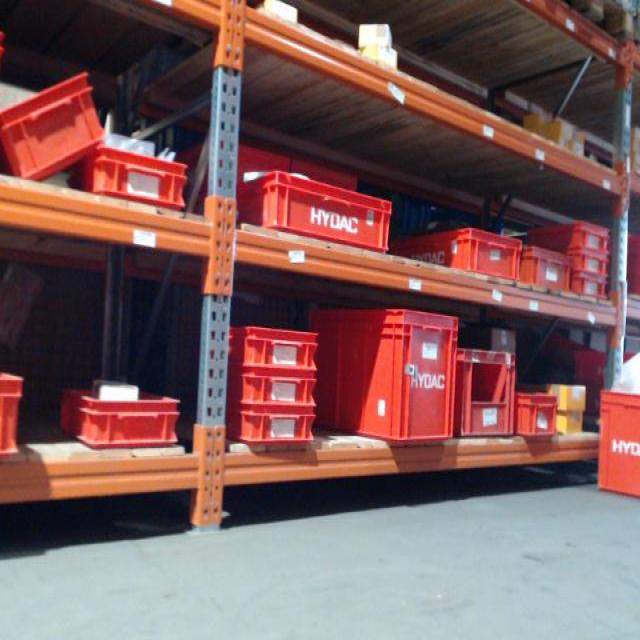small_load_carrier: (306, 304, 458, 445), (232, 168, 396, 258), (2, 65, 115, 184), (69, 138, 190, 218), (388, 222, 524, 286), (61, 384, 178, 447), (454, 345, 520, 445), (593, 389, 639, 500), (220, 325, 320, 372), (223, 370, 319, 407), (226, 412, 323, 447), (519, 221, 612, 252), (521, 239, 568, 298), (2, 368, 31, 459), (518, 389, 557, 445), (556, 250, 610, 276), (562, 275, 606, 303)
